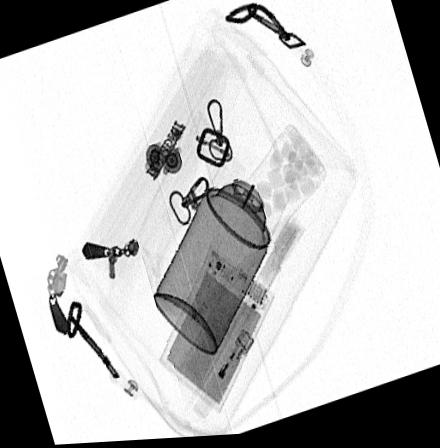Lighter: (195, 332, 253, 421)
Powerbank: (159, 247, 276, 416)
Sprayer: (154, 147, 286, 357)
